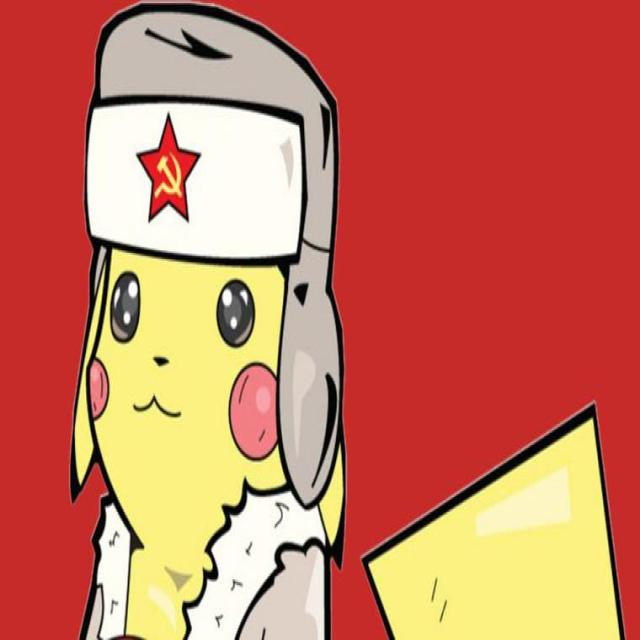pikachu: (70, 265, 348, 640)
